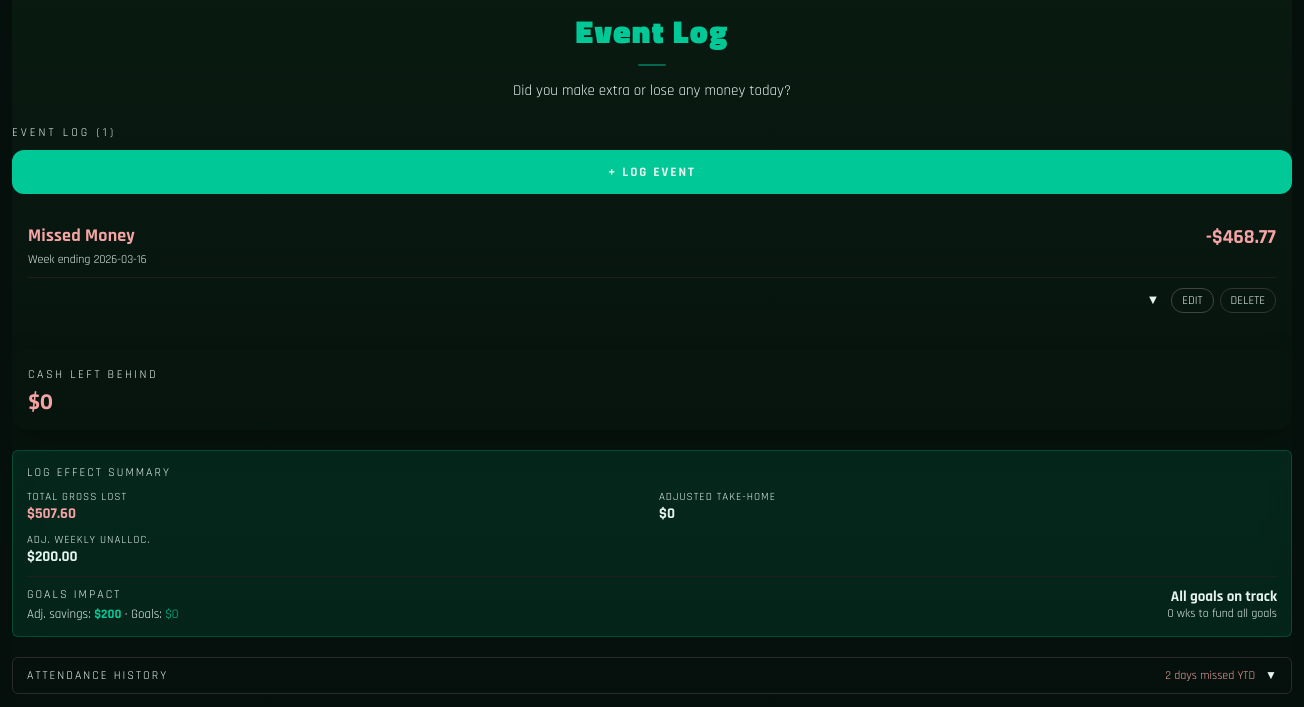
Attendance History — day pattern › renders a pill for each unique day that was missed
Click the button "Attendance History 2 days missed YTD ▼".
click(98, 675)  # box [12,657,1292,694]
(page scrolled)
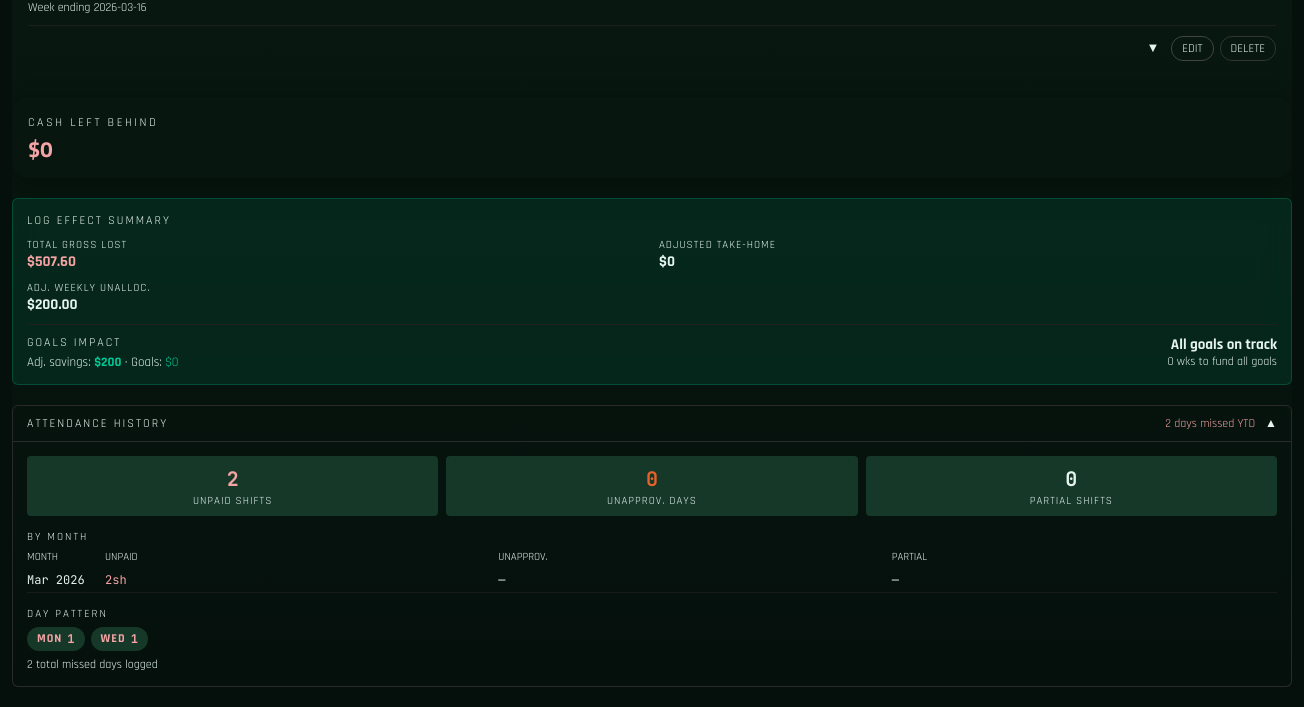
Check: the text "MON" is shown, box [37,631,62,646]
Check: the text "WED" is shown, box [101,631,126,646]
